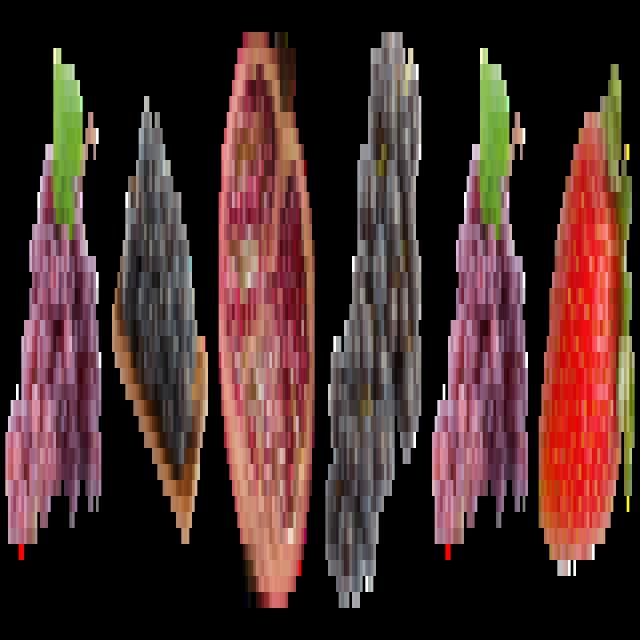grape: (324, 23, 424, 621), (4, 51, 105, 604), (433, 45, 532, 559), (112, 61, 209, 568)
pomegranate: (216, 16, 318, 619)
strawberry: (540, 58, 636, 576)
